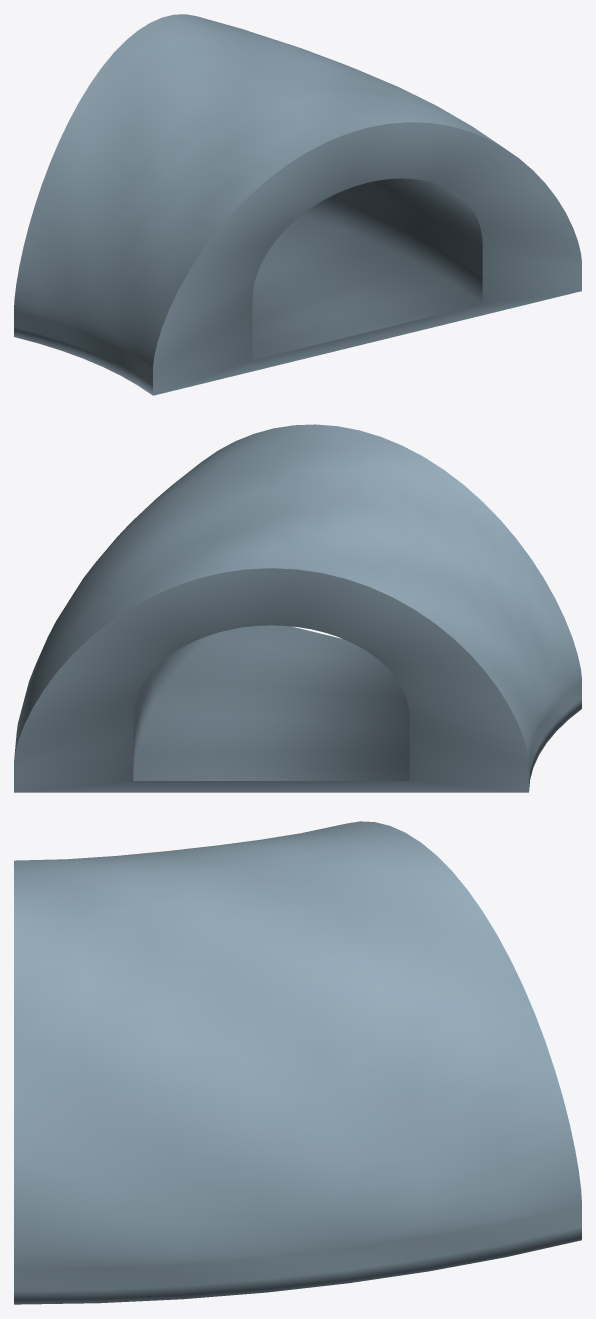
The model's file is curve_left_30_terrain_lod1.glb.
The picture shows the model from 3 angles, top to bottom: view 1: azimuth 30°, elevation 25°; view 2: azimuth 150°, elevation 25°; view 3: azimuth 270°, elevation 25°; orthographic projection. The views are drawn at different scales.
Visible parts, largest first — view 1: TerrainRoof.007; view 2: TerrainRoof.007; view 3: TerrainRoof.007.
Boxes of the visible parts, x1,y1,x2,y2 form: TerrainRoof.007: [14, 14, 581, 395]; TerrainRoof.007: [14, 424, 581, 792]; TerrainRoof.007: [14, 821, 581, 1304].
Bounding box in the file's own units: 31.32 × 13.65 × 25.1.
